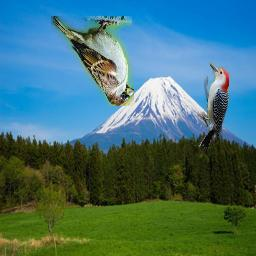Sparrow: (52, 16, 135, 106)
Woodpecker: (197, 62, 229, 154)
